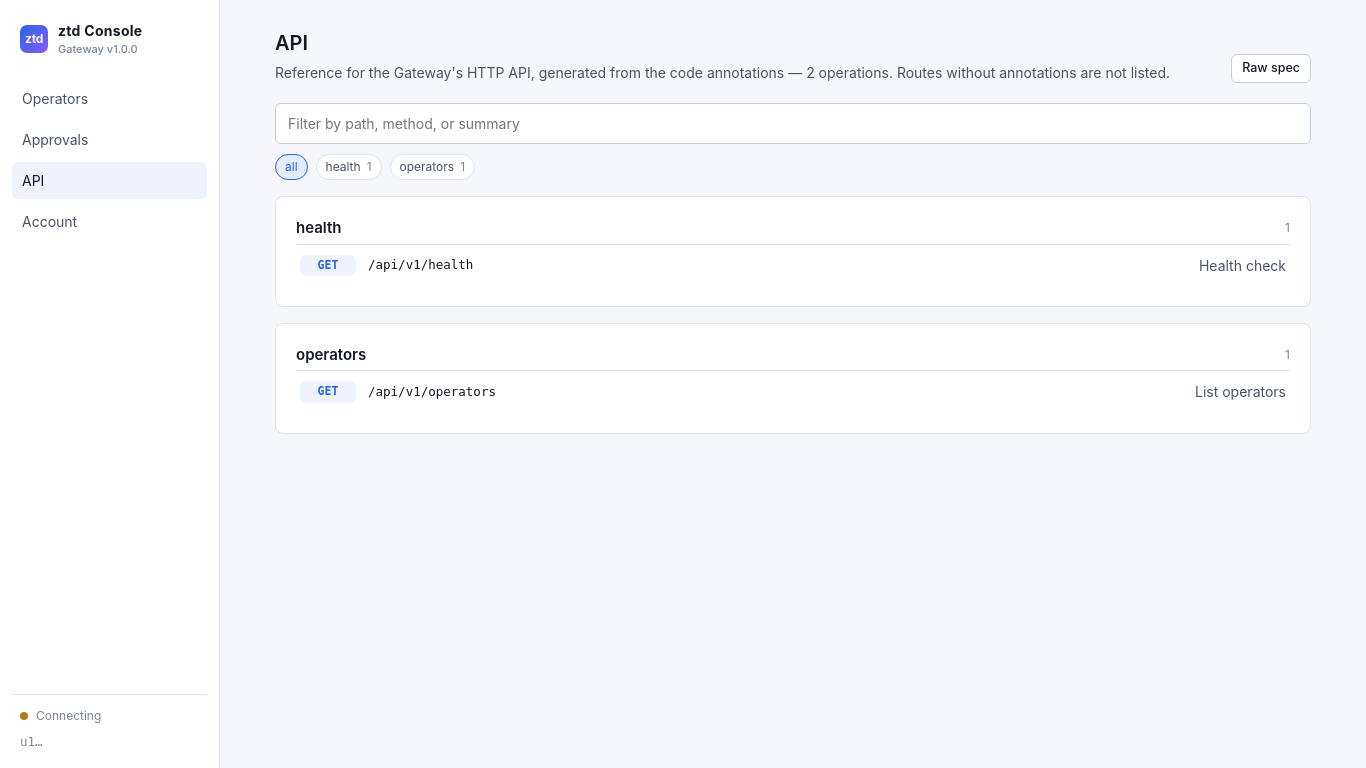
API reference › filters by text and by tag
Check: the text "/api/v1/operators" is shown, box left=368, top=382, right=496, bottom=401
Type "health" into the search field named "Filter operations".
click(793, 124); type("health")  # box left=275, top=103, right=1311, bottom=144
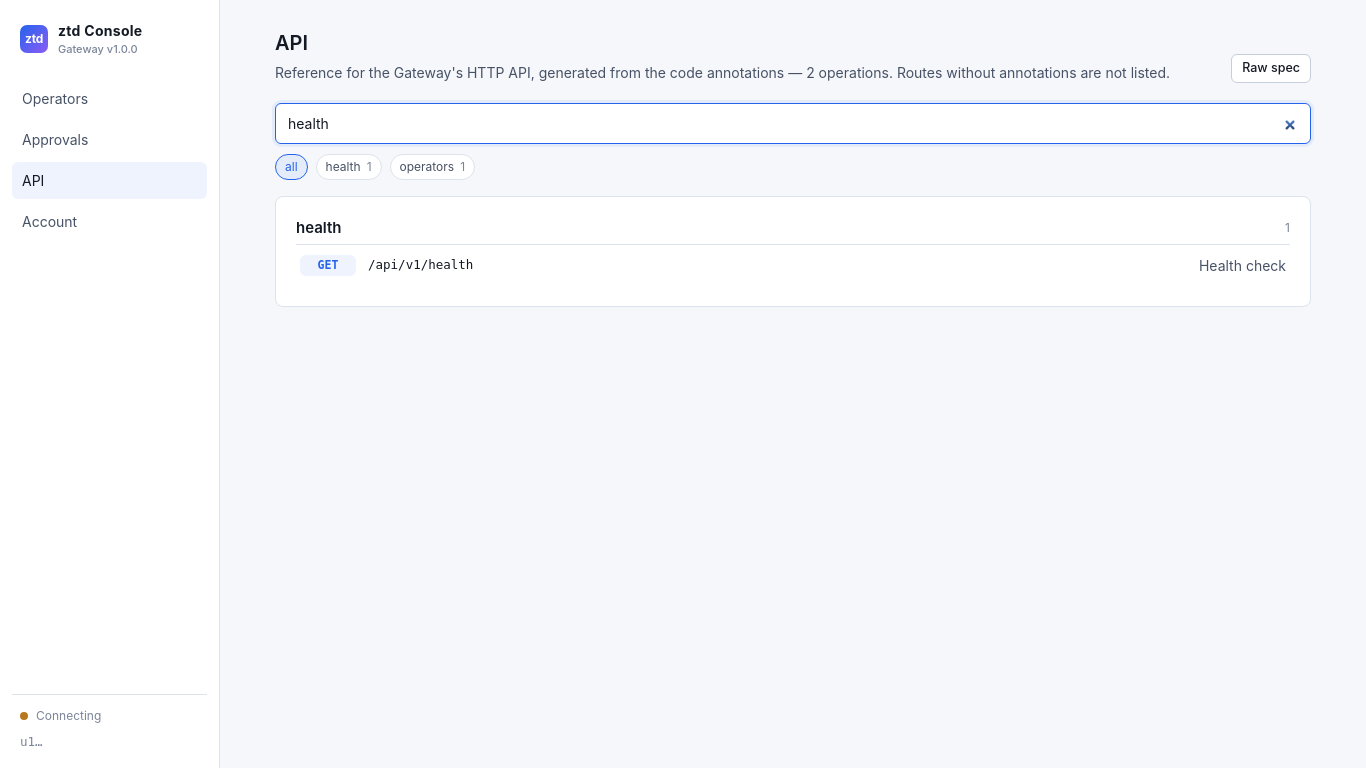
Check: the text "/api/v1/health" is shown, box left=368, top=256, right=473, bottom=275
Check: the button "/api/v1/operators" is gone
Clear the search field named "Filter operations" at {"x": 793, "y": 124}, box left=275, top=103, right=1311, bottom=144
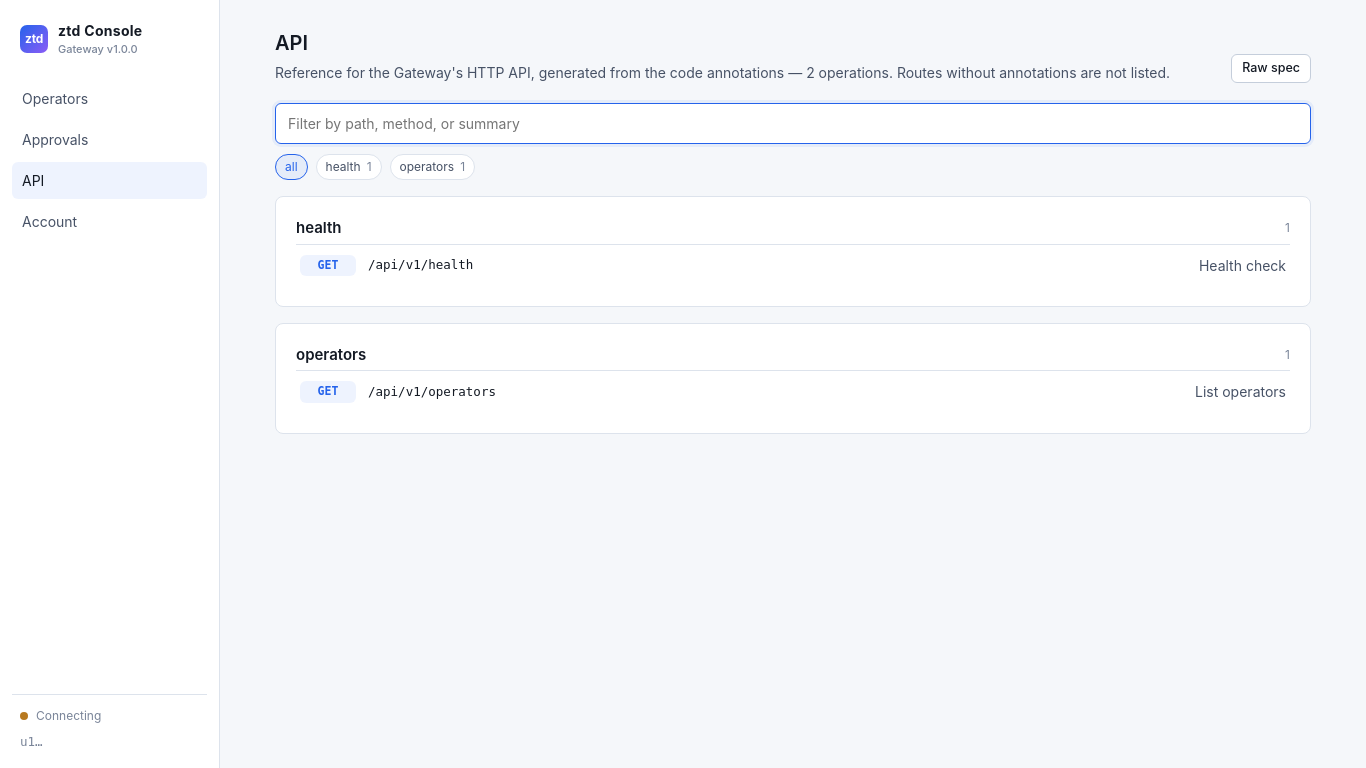
Click the button "operators 1".
click(432, 167)  # box left=390, top=154, right=475, bottom=180
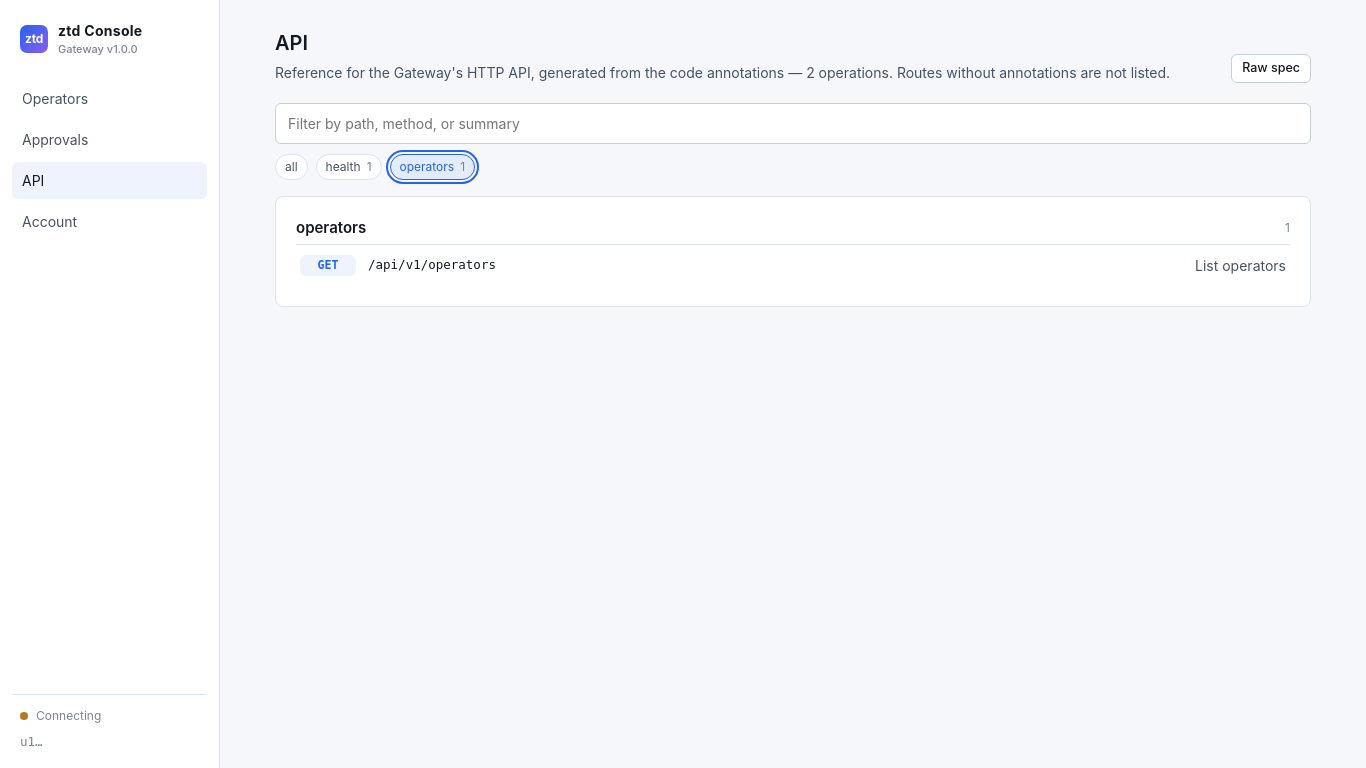
Check: the text "/api/v1/operators" is shown, box left=368, top=256, right=496, bottom=275
Check: the button "/api/v1/health" is gone
Type "nothing-matches" into the search field named "Filter operations".
click(793, 124); type("nothing-matches")  # box left=275, top=103, right=1311, bottom=144
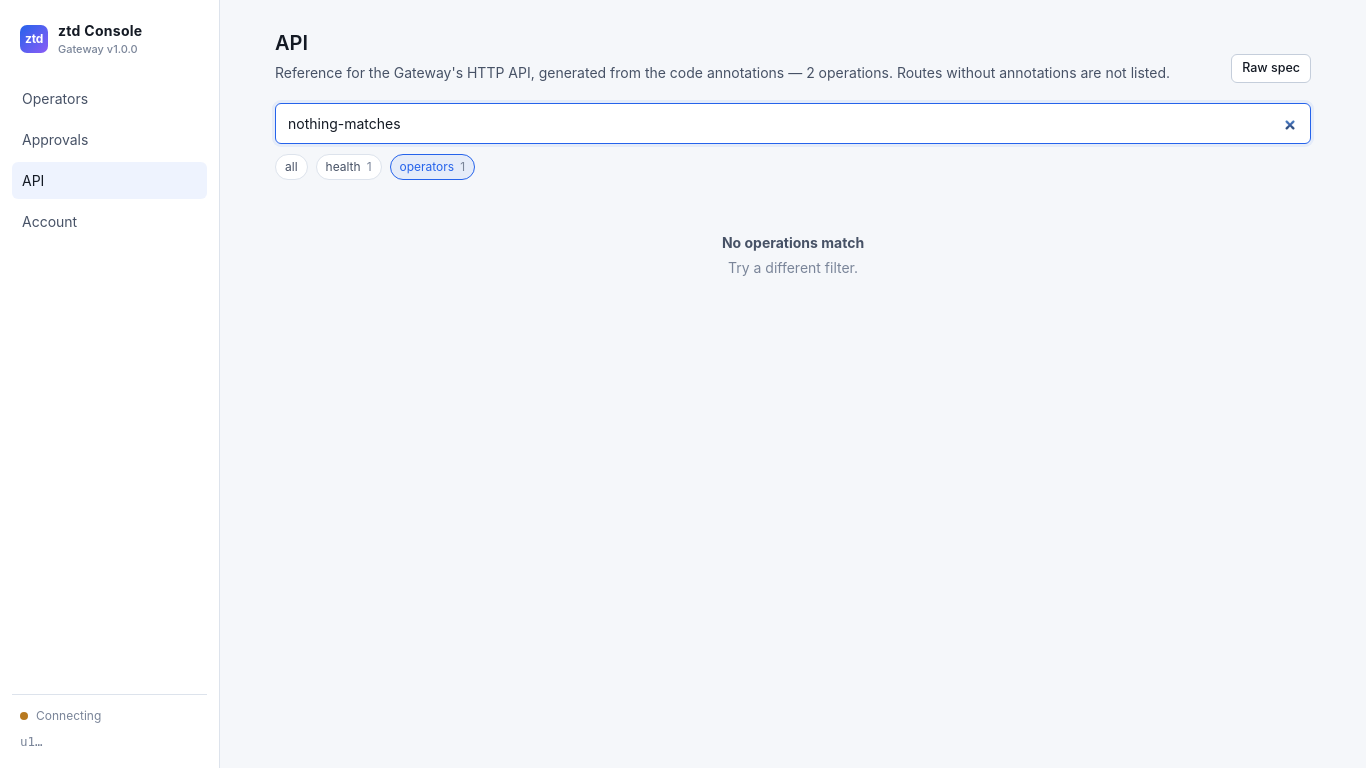
Check: the text "No operations match" is shown, box left=722, top=234, right=864, bottom=251
